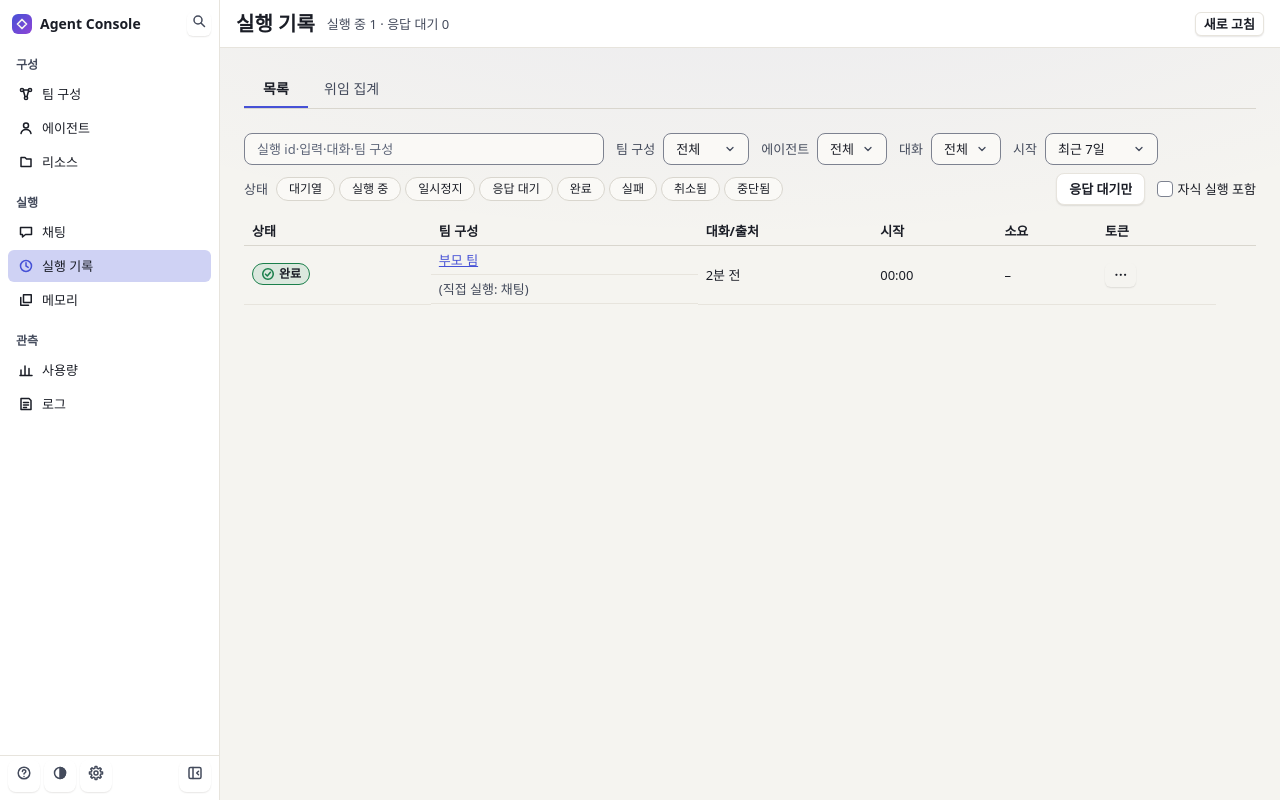
실행 기록: 자식 실행 포함 토글 › 기본은 자식 실행을 가리고, 켜면 ↳·자식 칩·상위 링크·상위에 포함이 나온다
Expected: the number of rows is 2, [244,217,1256,246]; [244,246,1256,304]
Click the checkbox labelled "자식 실행 포함". click: (1166, 189)
box: [1158,181,1174,197]
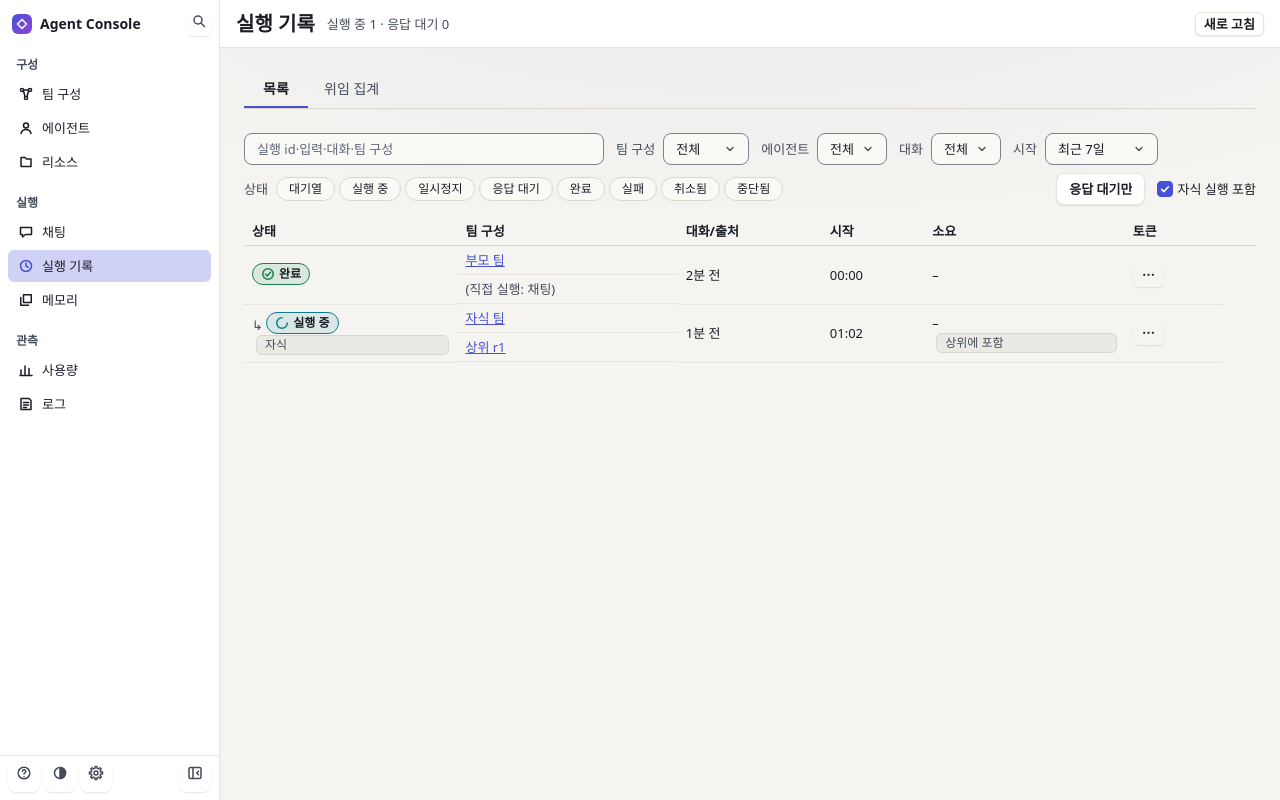
Result: the text "자식" is shown at [256,334,449,354]
Result: the link "상위 r1" is shown at [465,338,506,356]
Result: the text "상위에 포함" is shown at [936,333,1117,353]
